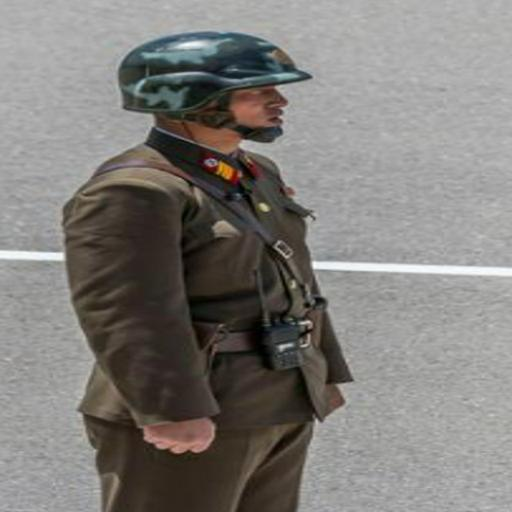north army: (55, 26, 404, 512)
